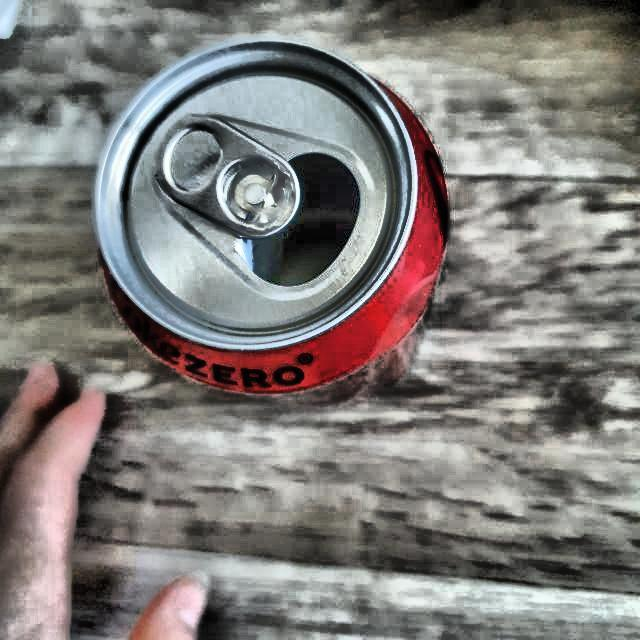metal: (93, 38, 448, 398)
